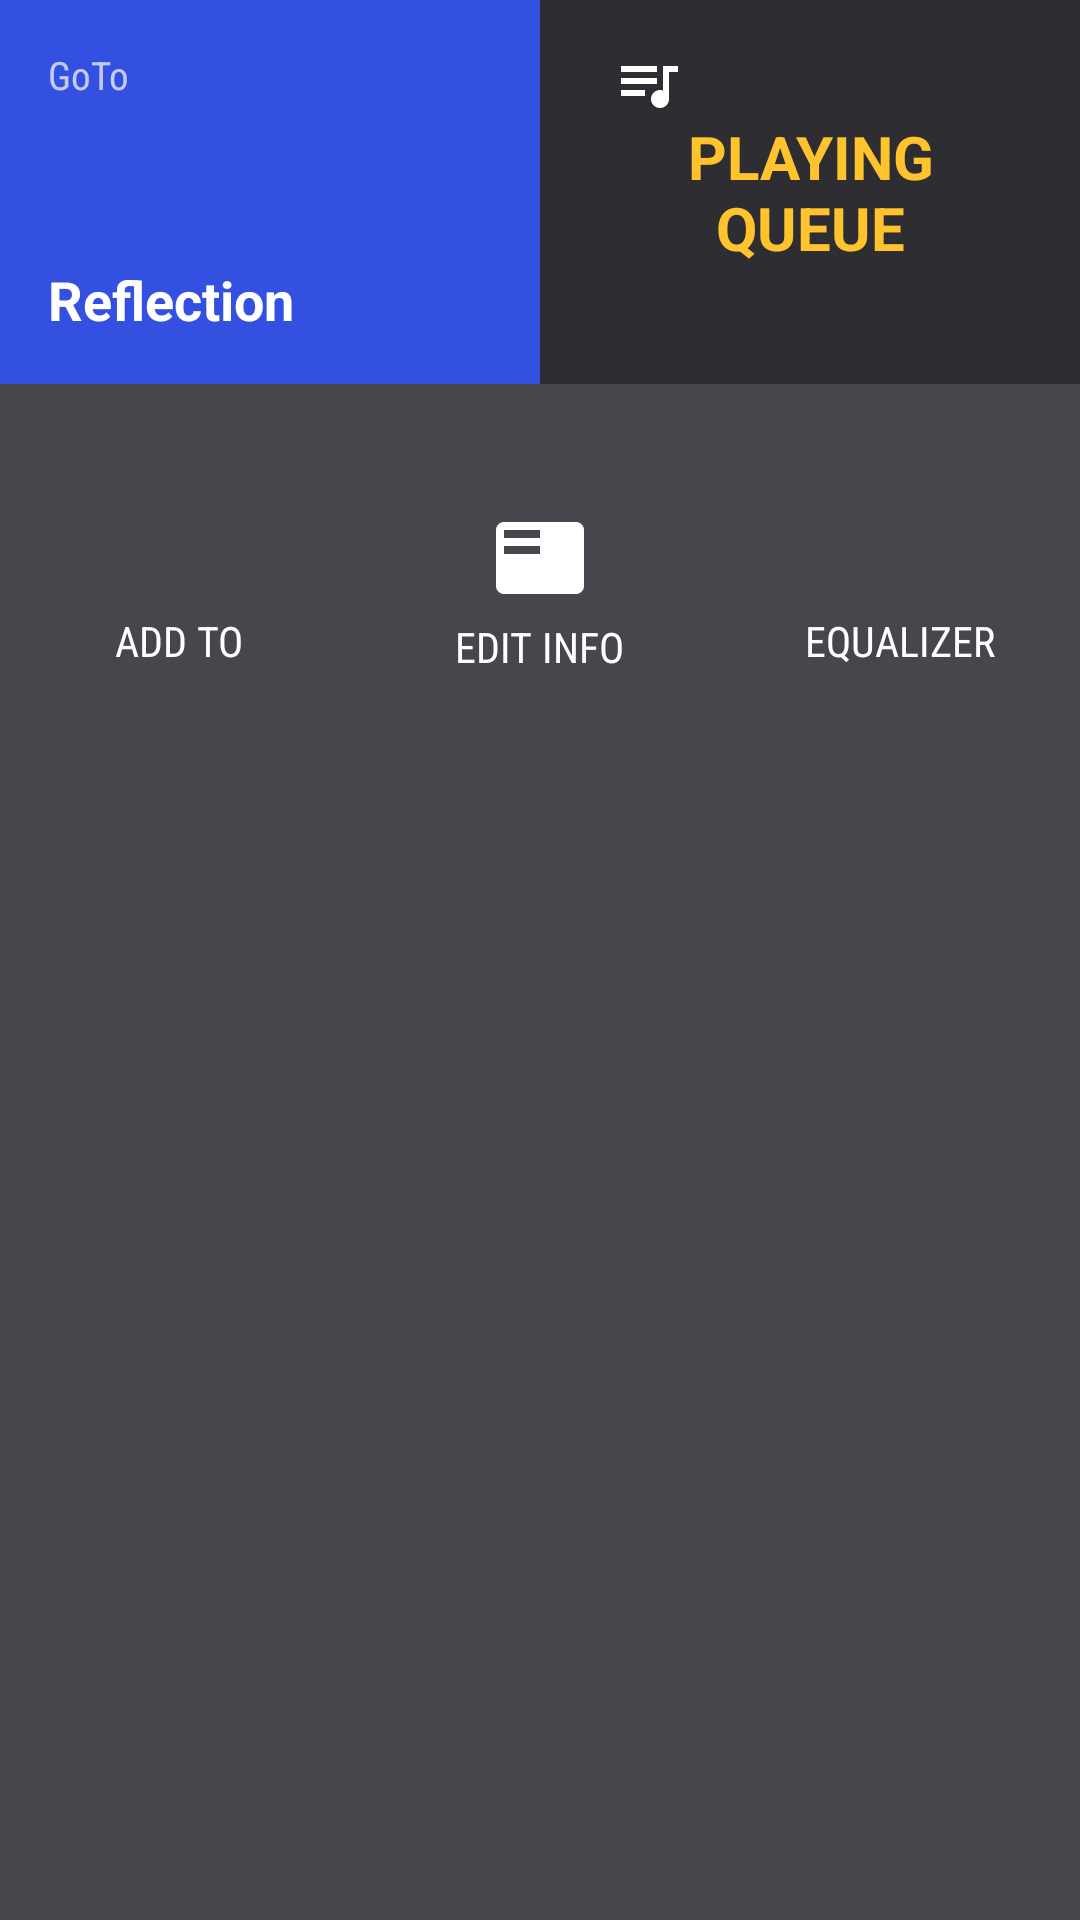

Icon bounding boxes for this 1080 x 1920 phone screenshot, format (x1, y1, x2, y2):
featured play list: (496, 522, 584, 594)
queue music: (621, 66, 678, 108)
